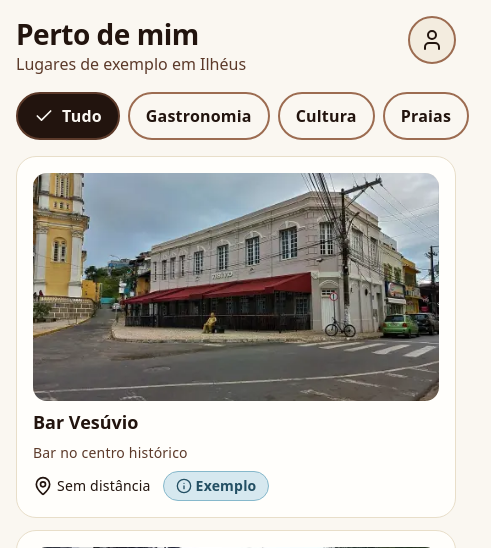
Test case: NearbyScreen › shows the empty state for a category with no place and Ver todos os lugares selects Tudo
Check: the text "Bar Vesúvio" is shown, box [33,410,138,434]
What coordinates should you click on to do the following:
click the button "Praias"
I would click on:
 (426, 116)
Its box is [383,92,469,140].
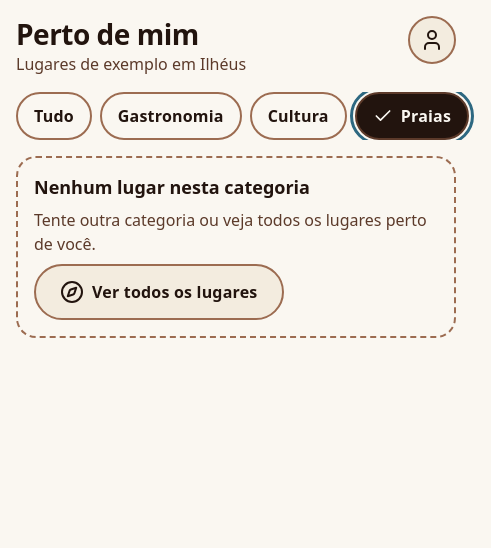
Check: the text "Nenhum lugar nesta categoria" is shown, box [34,175,310,199]
Check: no list items are shown
What coordinates should you click on to do the following:
click the button "Ver todos os lugares"
I would click on:
 (159, 292)
Its box is [34,264,284,320].
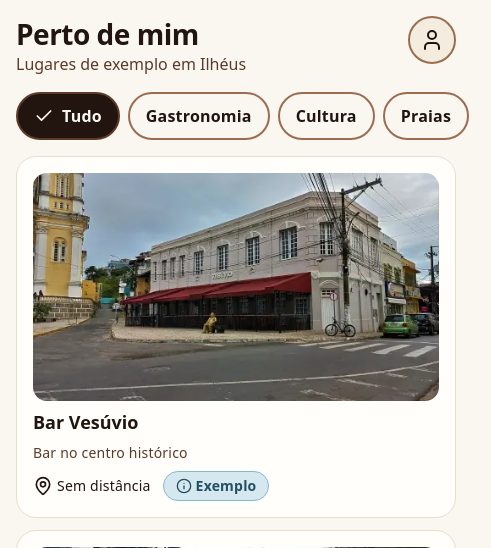
Check: the number of list items is 22
